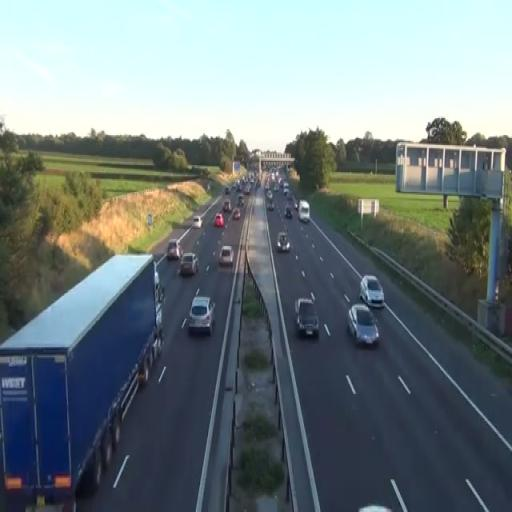Car: (346, 303, 379, 347), (294, 293, 320, 338), (188, 295, 216, 336), (359, 275, 384, 307), (179, 252, 199, 276), (166, 239, 184, 262), (219, 245, 234, 266), (277, 230, 290, 252), (214, 213, 224, 228), (284, 206, 292, 219)
Truck: (0, 252, 166, 503)
